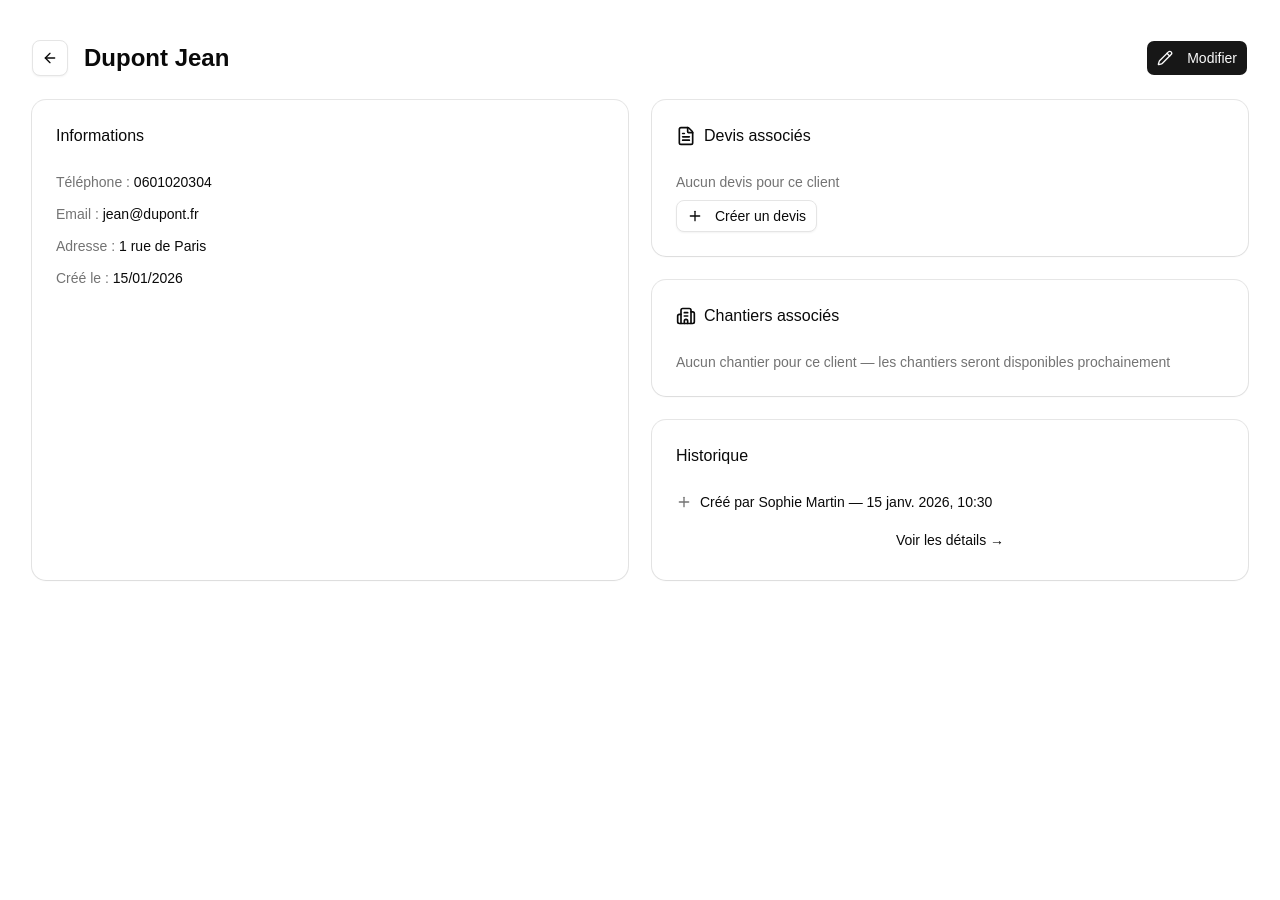
Scenario: ClientDetailPage › le bouton "Modifier" ouvre le dialog
Click the button "Modifier" at [1197, 58], box [1146, 40, 1248, 76]
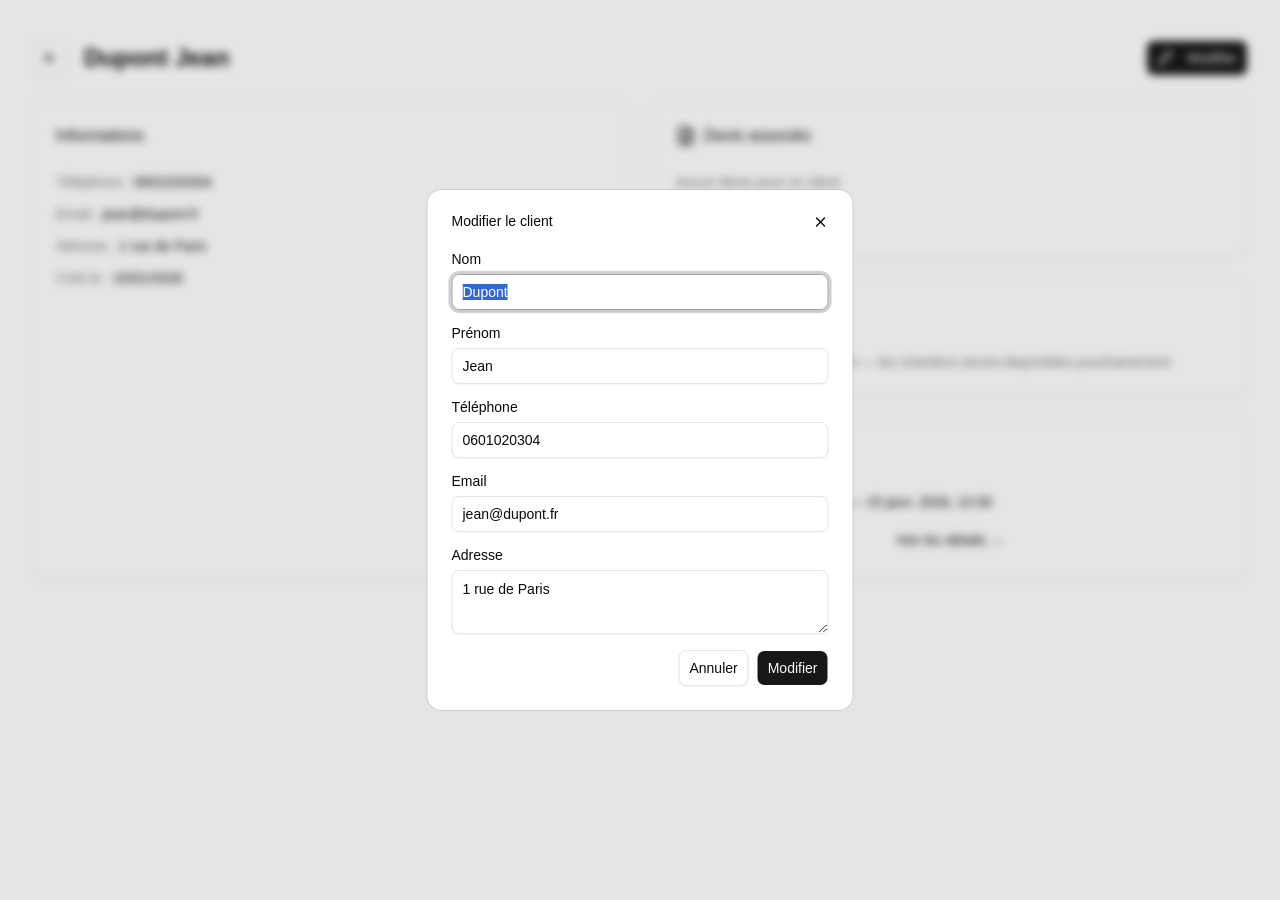
Check: the heading "Modifier le client" is shown, box [452, 213, 553, 229]
